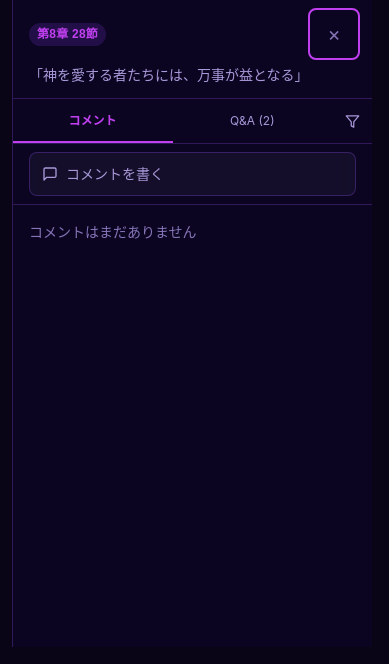
パネルの絞り込み（解釈・Q&A） › Q&A のタブでも絞り込みボタンが出て、解決済み・未解決と検索で絞れる
The image size is (389, 664).
Click the tab "Q&A (2)" at (252, 121), box [172, 99, 332, 143]
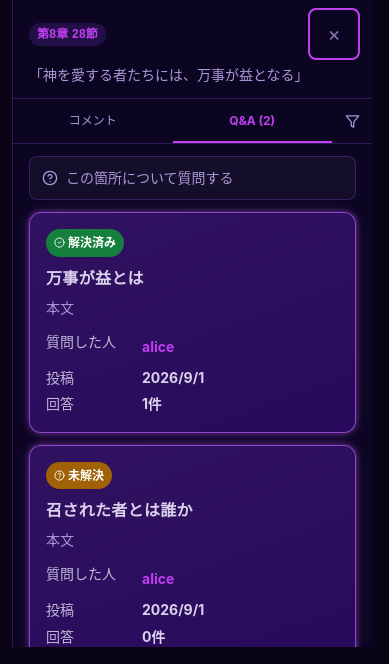
Click the button named "絞り込みと検索" at (352, 121), box [332, 99, 372, 143]
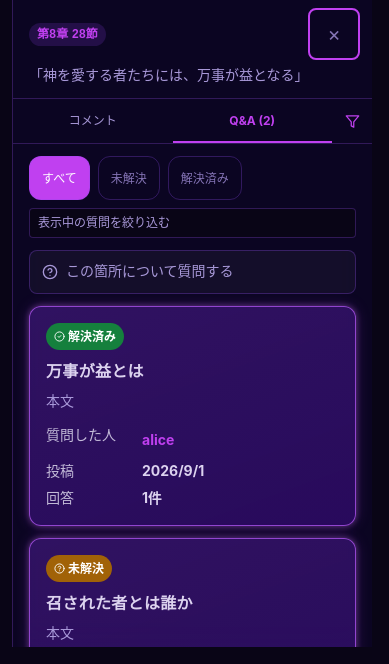
Click the button "未解決" at (129, 178), box [98, 156, 160, 200]
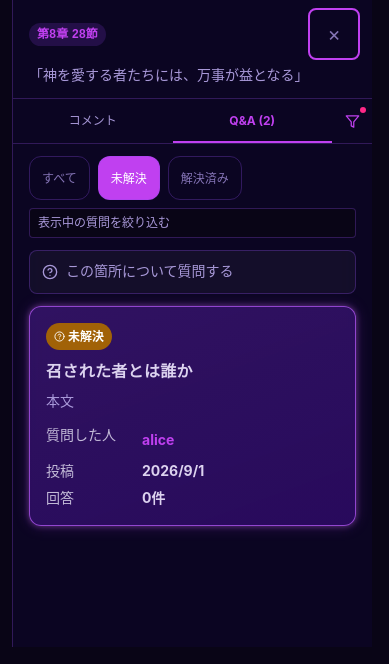
Result: the link "召された者とは誰か" is shown at [46, 363, 193, 380]
Result: the link "万事が益とは" is gone
Click the button "すべて" at (59, 178), box [29, 156, 90, 200]
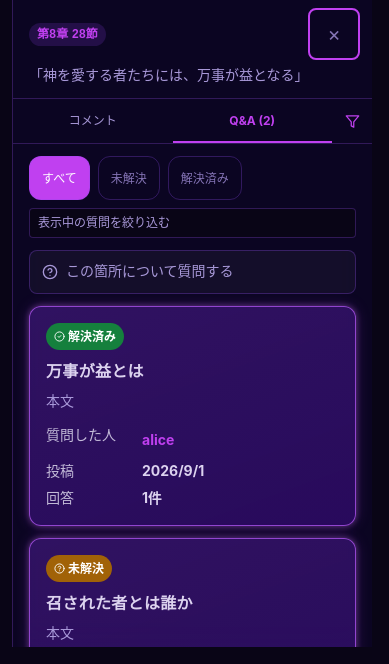
Type "万事" into the search field labelled "表示中の質問を絞り込む" at (192, 223), box [29, 208, 356, 238]
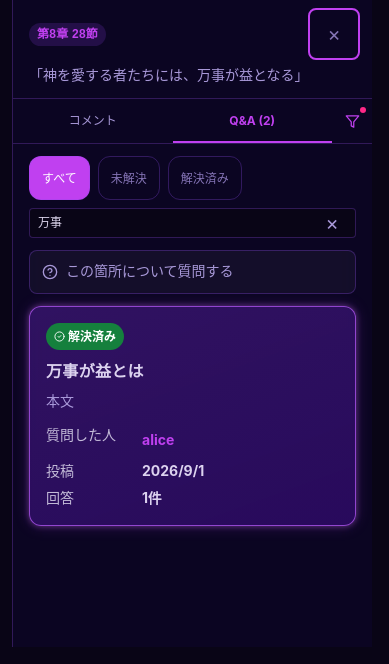
Result: the link "万事が益とは" is shown at [46, 363, 144, 380]
Result: the link "召された者とは誰か" is gone
